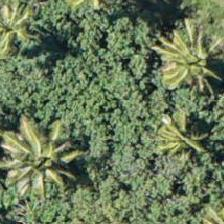coconut_tree: (136, 88, 223, 178), (0, 113, 85, 203), (143, 11, 223, 101), (0, 0, 50, 86), (0, 0, 53, 76)
